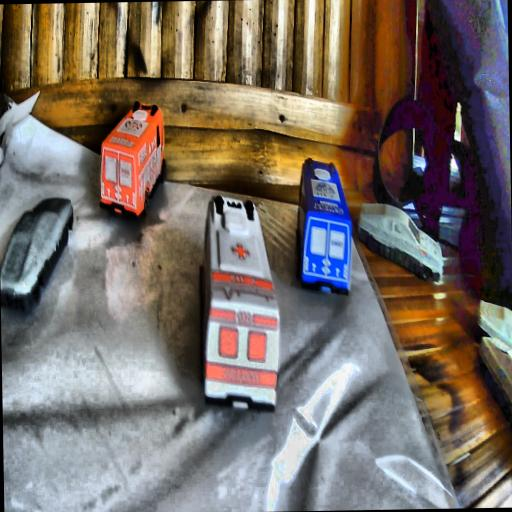ambulance: (196, 194, 282, 413)
fire_truck: (97, 100, 167, 222)
normal_car: (0, 195, 78, 314), (358, 202, 443, 285)
police car: (294, 158, 354, 297)
